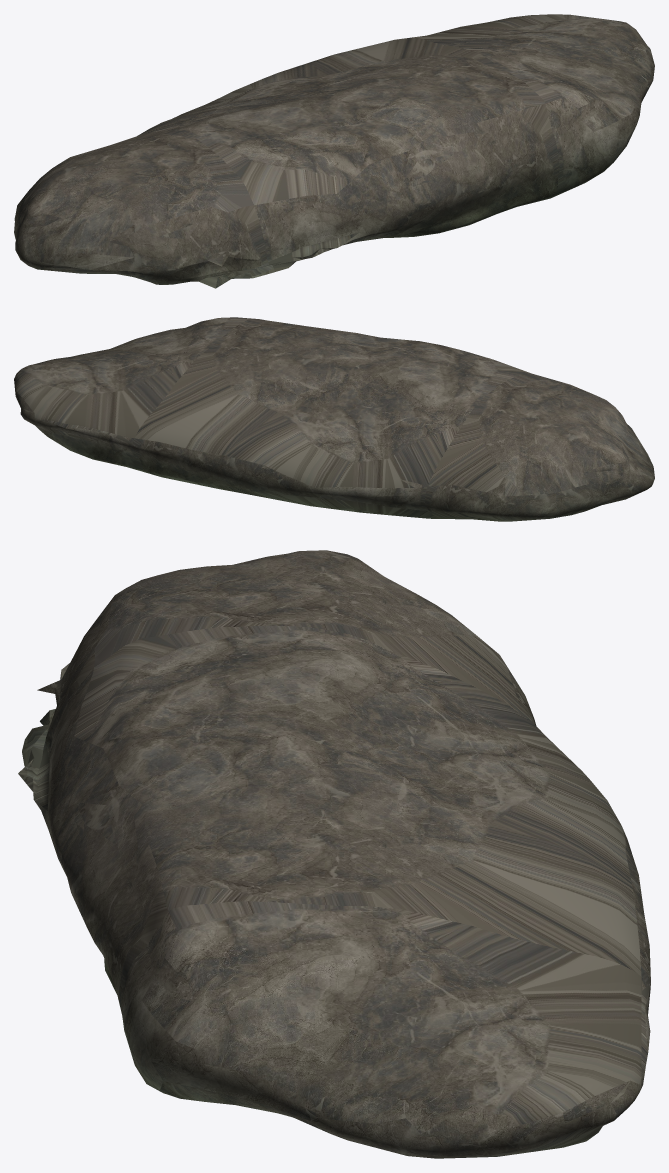
File: coast_reef_b.glb
3 renders of one model, top to bottom at view 1: azimuth 30°, elevation 25°; view 2: azimuth 150°, elevation 25°; view 3: azimuth 270°, elevation 25°, orthographic. The views are drawn at different scales.
Parts seen in each view (by area): view 1: Cliff_Rock_Model; view 2: Cliff_Rock_Model; view 3: Cliff_Rock_Model.
Part boxes in pixels (left/top/right/bottom): Cliff_Rock_Model: left=14, top=14, right=654, bottom=288; Cliff_Rock_Model: left=14, top=317, right=654, bottom=521; Cliff_Rock_Model: left=18, top=550, right=650, bottom=1158.
Bounding box in the file's own units: 3.48 × 0.6066 × 1.65.
Materials: 1 (1 with a texture image).
